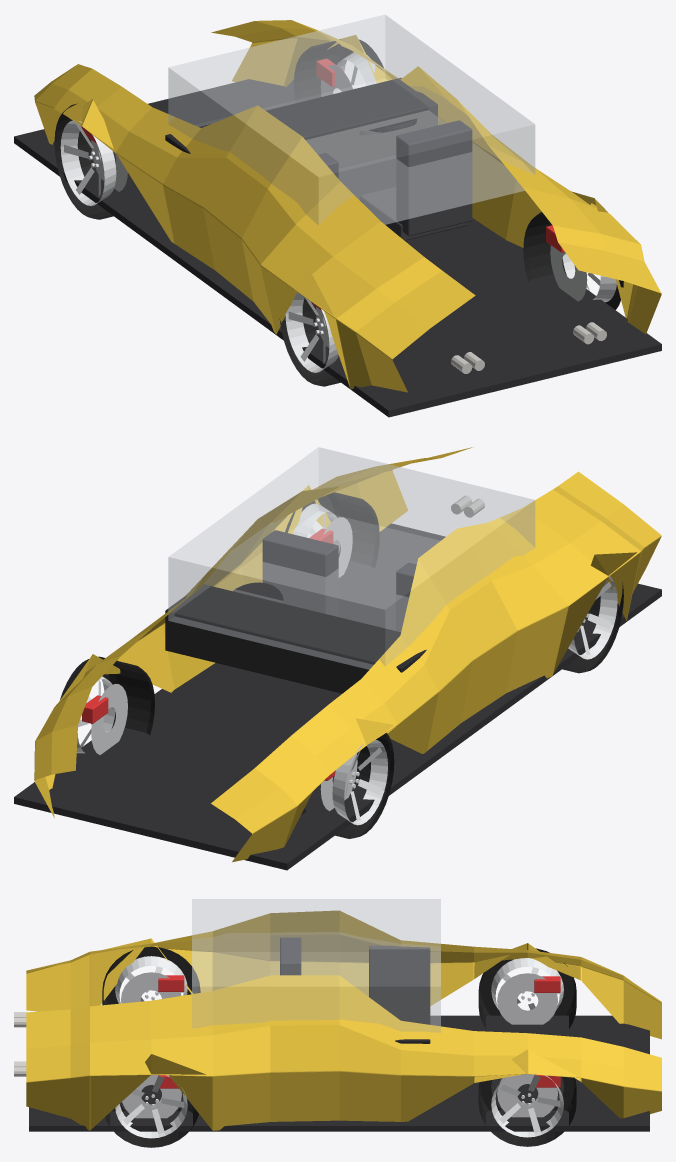
The model's file is Car_Lamborghini_Countach_LP400_1970s.glb.
3 renders of one model, top to bottom at view 1: azimuth 30°, elevation 25°; view 2: azimuth 150°, elevation 25°; view 3: azimuth 270°, elevation 25°, orthographic. The views are drawn at different scales.
Parts seen in each view (by area): view 1: BODY_Lamborghini_Countach_MainShell, GLASS_Countach, CHASSIS_CarbonTub, INTERIOR_CarbonSeats, INTERIOR_Dashboard, WHEEL_FR_Rim, WHEEL_RR_Rim, WHEEL_FL_Tire, WHEEL_RL_Tire, WHEEL_FR_Tire, WHEEL_RR_Tire, BRAKE_RL_Rotor (+4 smaller); view 2: BODY_Lamborghini_Countach_MainShell, GLASS_Countach, CHASSIS_CarbonTub, INTERIOR_Dashboard, INTERIOR_CarbonSeats, WHEEL_RL_Tire, WHEEL_FR_Rim, WHEEL_FL_Tire, WHEEL_RR_Rim, WHEEL_FR_Tire, BRAKE_FL_Rotor, WHEEL_RR_Tire (+4 smaller); view 3: BODY_Lamborghini_Countach_MainShell, GLASS_Countach, CHASSIS_CarbonTub, INTERIOR_Dashboard, BRAKE_FR_Rotor, WHEEL_FL_Tire, WHEEL_FR_Tire, WHEEL_FL_Rim, WHEEL_RL_Rim, BRAKE_FL_Rotor, WHEEL_RR_Tire, BRAKE_RL_Rotor (+8 smaller).
Part boxes in pixels (x1,y1,x2,y2): BODY_Lamborghini_Countach_MainShell: (34,20,661,392); GLASS_Countach: (168,14,535,224); CHASSIS_CarbonTub: (14,79,661,417); INTERIOR_CarbonSeats: (318,120,472,240); INTERIOR_Dashboard: (165,78,437,168); WHEEL_FR_Rim: (60,120,116,205); WHEEL_RR_Rim: (285,292,338,372); WHEEL_FL_Tire: (293,39,383,102); WHEEL_RL_Tire: (523,212,623,309); WHEEL_FR_Tire: (54,103,113,219); WHEEL_RR_Tire: (279,298,340,386); BRAKE_RL_Rotor: (550,245,587,301); BODY_Lamborghini_Countach_MainShell: (34,447,661,862); GLASS_Countach: (168,447,535,669); CHASSIS_CarbonTub: (14,523,661,870); INTERIOR_Dashboard: (165,584,426,693); INTERIOR_CarbonSeats: (262,530,416,631); WHEEL_RL_Tire: (285,492,379,568); WHEEL_FR_Rim: (332,740,387,825); WHEEL_FL_Tire: (60,656,154,734); WHEEL_RR_Rim: (568,576,617,659); WHEEL_FR_Tire: (301,733,394,838); BRAKE_FL_Rotor: (91,684,127,754); WHEEL_RR_Tire: (562,582,623,673); BODY_Lamborghini_Countach_MainShell: (26,910,661,1130); GLASS_Countach: (192,899,440,1032); CHASSIS_CarbonTub: (29,1015,649,1131); INTERIOR_Dashboard: (369,945,430,1043); BRAKE_FR_Rotor: (497,973,557,1024); WHEEL_FL_Tire: (478,1076,576,1146); WHEEL_FR_Tire: (478,948,576,1028); WHEEL_FL_Rim: (491,1071,563,1137); WHEEL_RL_Rim: (115,1075,187,1138); BRAKE_FL_Rotor: (497,1074,557,1117); WHEEL_RR_Tire: (102,946,200,1005); BRAKE_RL_Rotor: (122,1075,181,1118).
Bounding box in the file's own units: 1.96 × 1.07 × 4.22.
